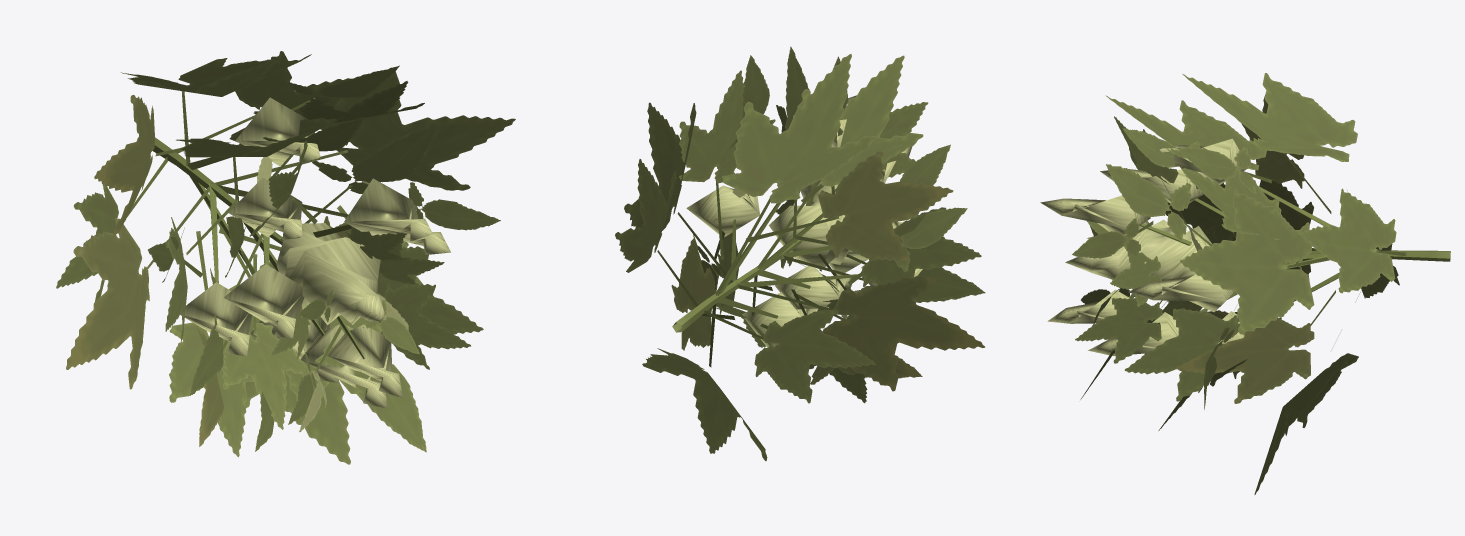
The model's file is p_frosty_afghan_ripe_c1_cards.obj.
3 views of the same model, side by side, from view 1: azimuth 30°, elevation 25°; view 2: azimuth 150°, elevation 25°; view 3: azimuth 270°, elevation 25° (orthographic). The views are drawn at different scales.
Size of the model in its own units: 1.44 by 1.45 by 1.23.
1 material, 1 textured.
